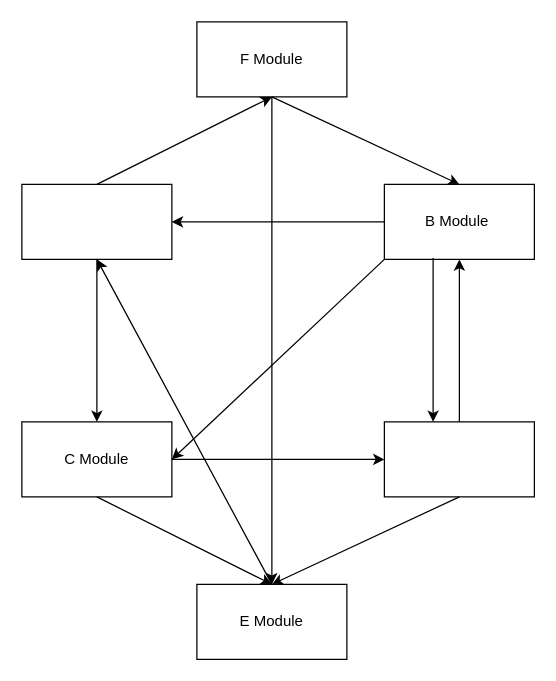
Some shapes in this 556 by 681 pixel diagram are drawn without their labels. The shapes that lost their labels are listed below. From the top down, each one's box as (x1, y1, x2, y2) in pixels, then its label:
(21, 183, 172, 259): A Module
(383, 421, 534, 497): D Module
